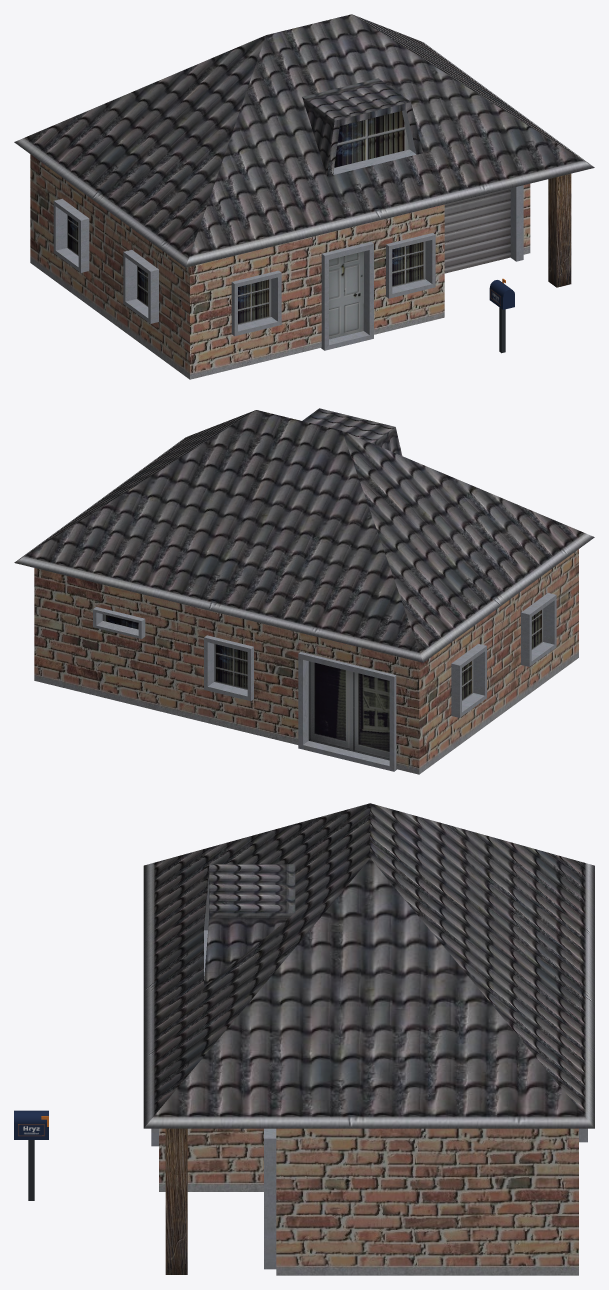
Rendered from casa3-a.glb.
The picture shows the model from 3 angles, top to bottom: view 1: azimuth 30°, elevation 25°; view 2: azimuth 150°, elevation 25°; view 3: azimuth 270°, elevation 25°; orthographic projection. The views are drawn at different scales.
Visible parts, largest first — view 1: Casa, CaixaCorreio; view 2: Casa; view 3: Casa, CaixaCorreio.
Part boxes in pixels (bbox=[...]): Casa: bbox=[14, 14, 594, 379]; CaixaCorreio: bbox=[489, 278, 514, 353]; Casa: bbox=[14, 408, 594, 774]; Casa: bbox=[143, 803, 594, 1275]; CaixaCorreio: bbox=[14, 1110, 48, 1200].
Bounding box in the file's own units: 8.88 × 5.16 × 8.3.
Materials: 5 (2 with a texture image).
